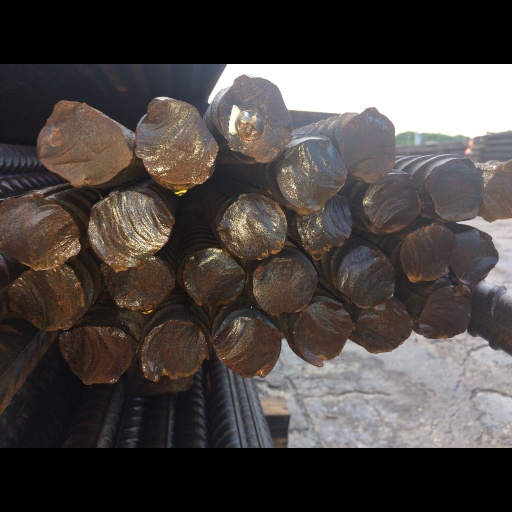dipstick: (135, 95, 217, 194), (37, 104, 131, 186), (217, 75, 291, 161), (88, 189, 170, 264), (1, 204, 78, 268), (10, 269, 84, 329), (280, 139, 343, 206), (60, 327, 132, 383), (140, 321, 207, 380), (223, 195, 285, 258), (215, 316, 280, 375), (343, 110, 394, 181), (101, 261, 173, 311), (338, 246, 395, 308), (293, 302, 349, 363), (182, 251, 245, 305), (428, 159, 483, 220), (254, 258, 314, 313), (365, 176, 422, 231), (297, 198, 351, 252), (401, 226, 452, 281), (357, 307, 413, 354), (421, 286, 471, 338), (452, 230, 500, 281), (484, 162, 512, 219)
